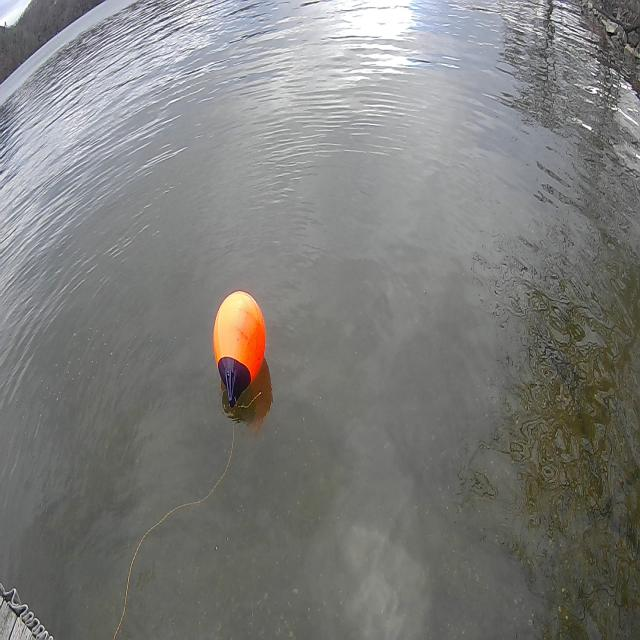Buoy: (213, 288, 268, 389)
